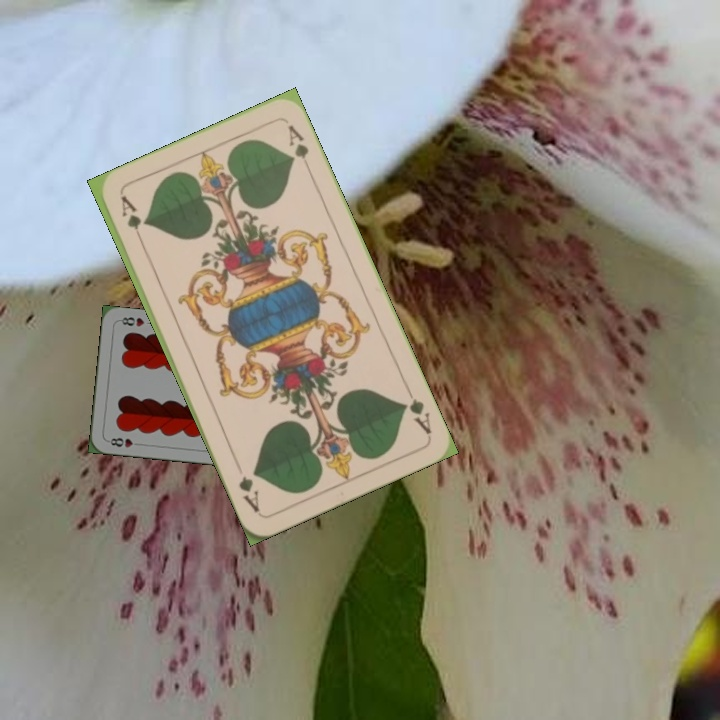GA: (398, 382, 435, 437), (116, 191, 147, 248)
H8: (104, 434, 144, 450)
